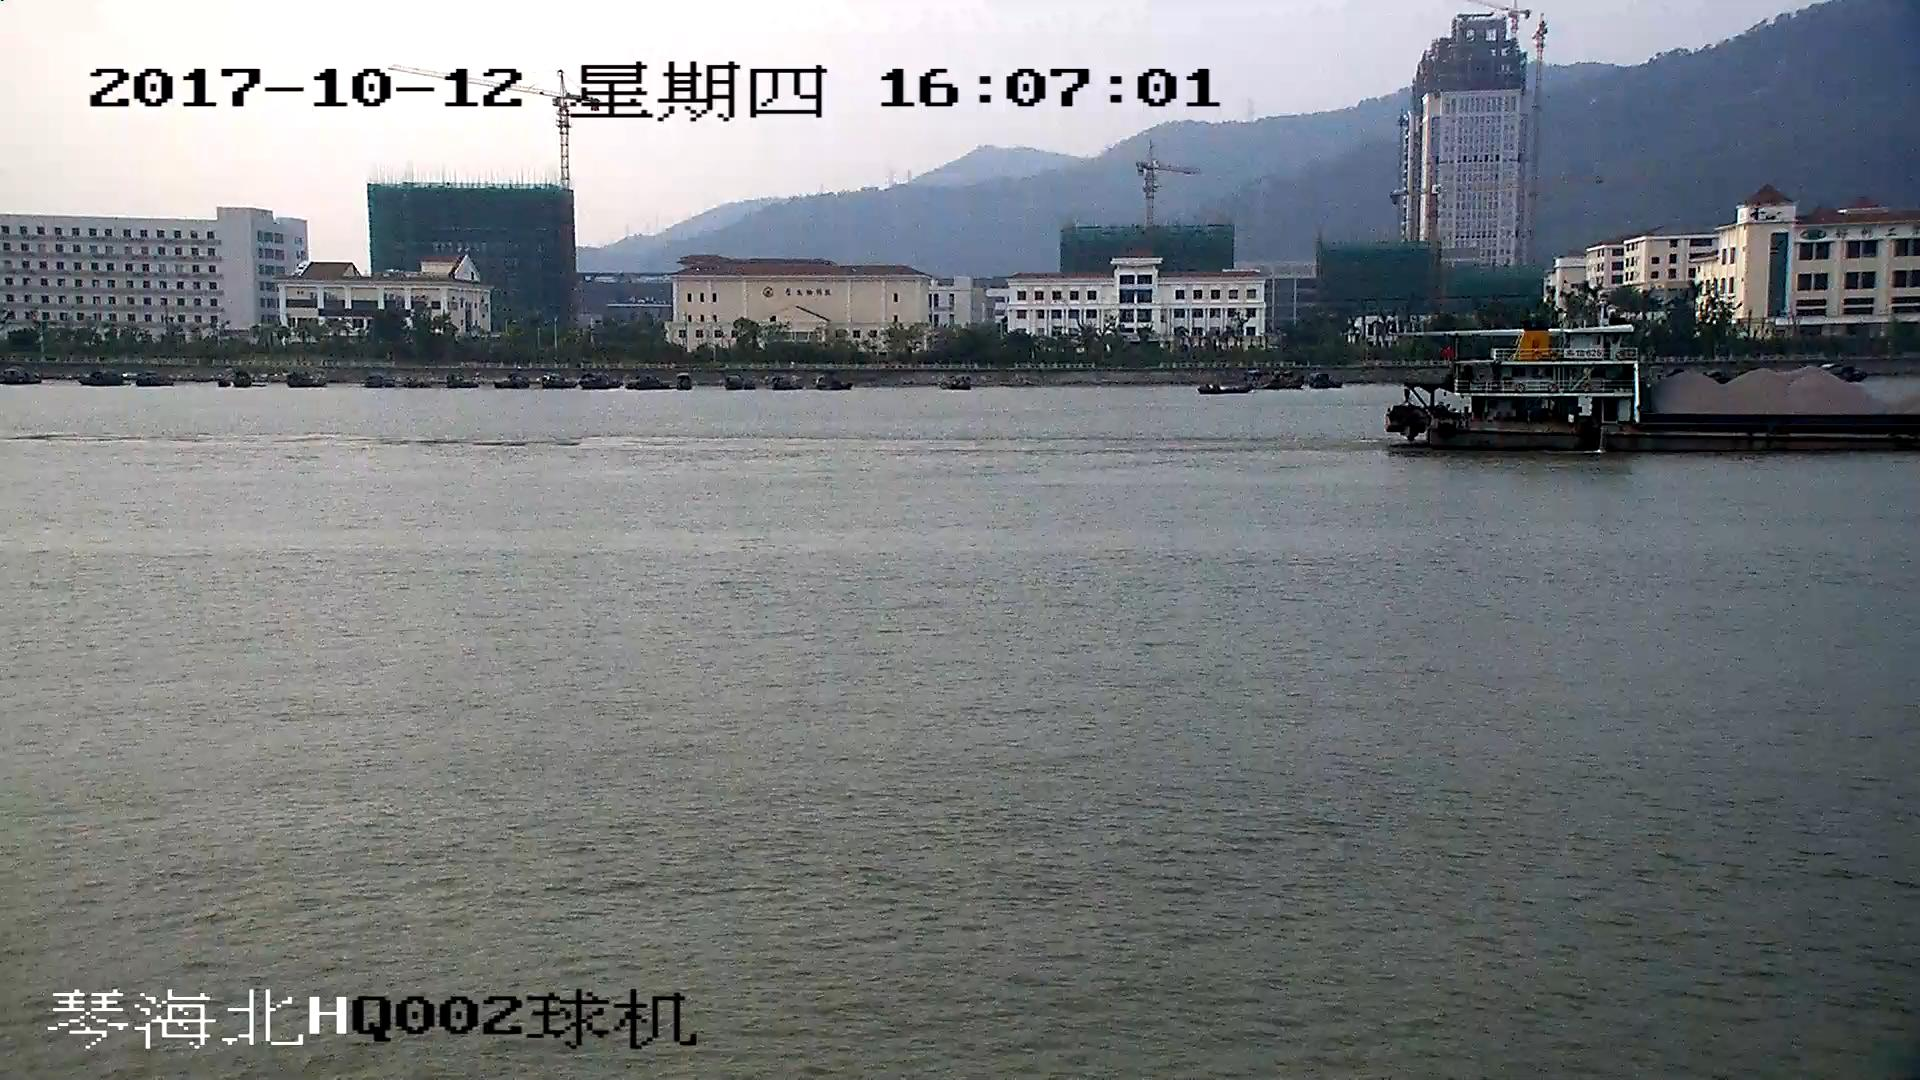ore carrier: (1390, 336, 1920, 455)
